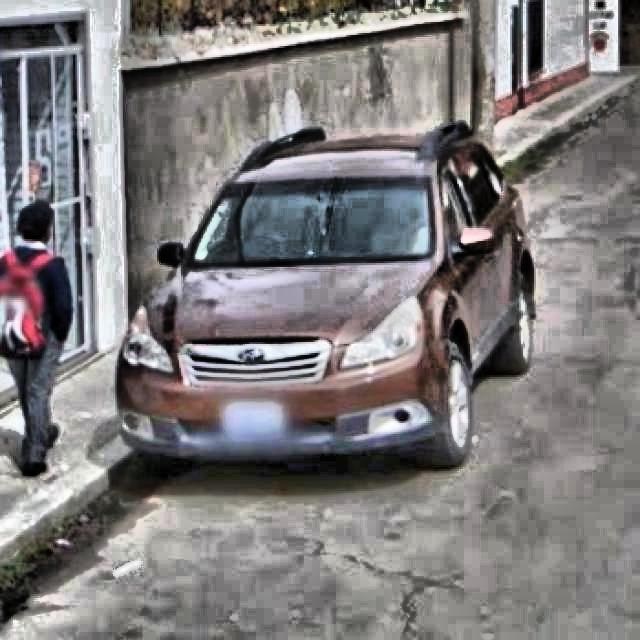carro: (120, 140, 532, 488)
